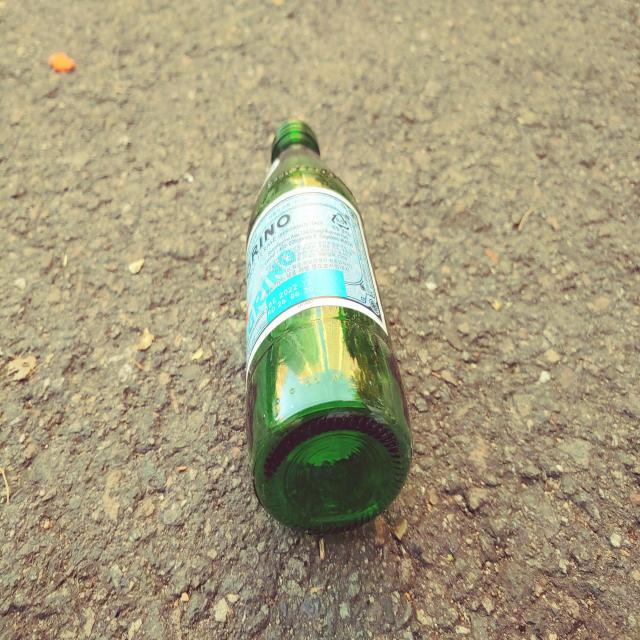glass: (246, 120, 412, 534)
